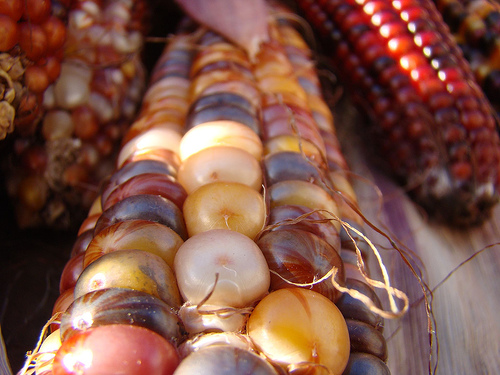corn: (15, 7, 393, 374), (306, 0, 499, 232)
